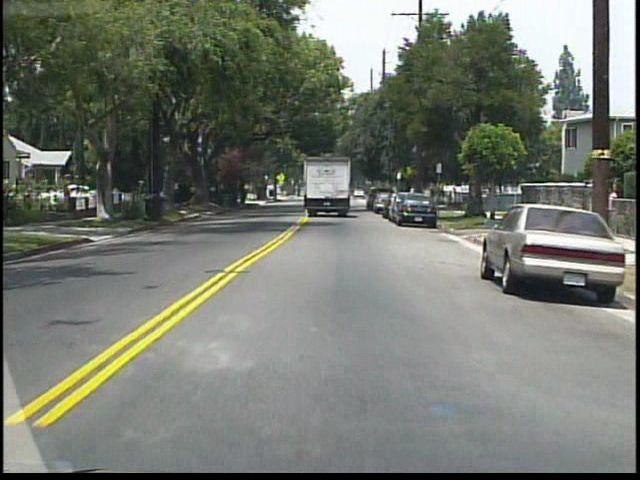person: (601, 184, 618, 200)
